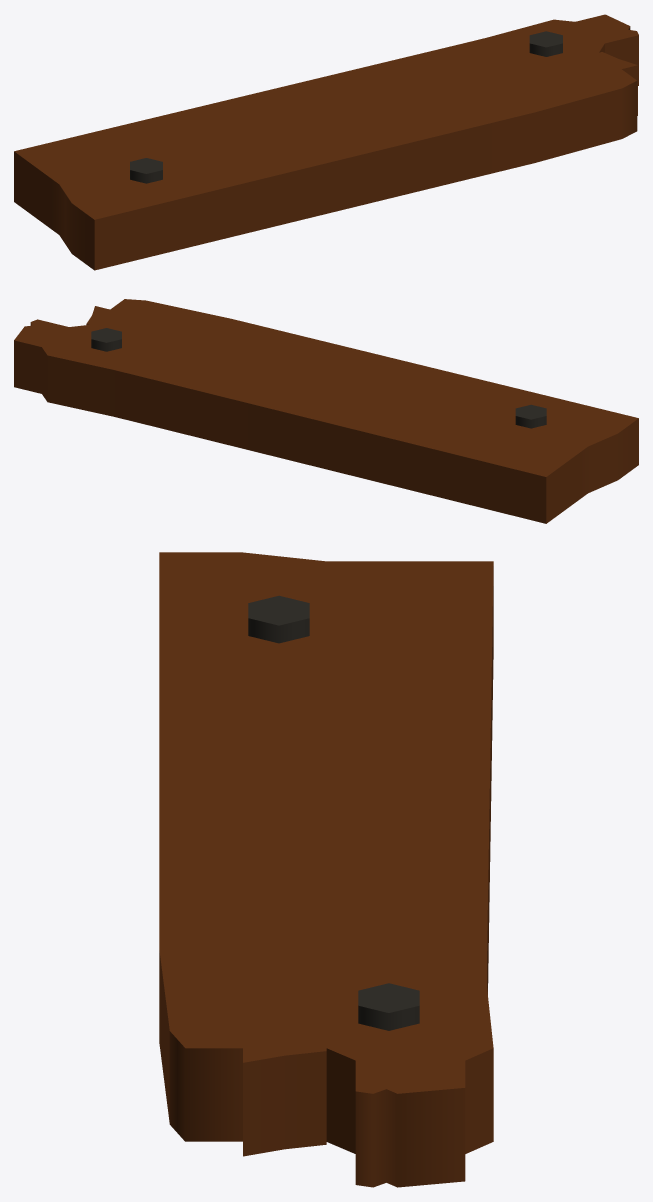
File: plank.FBX
3 views of the same model, one above another, from view 1: azimuth 30°, elevation 25°; view 2: azimuth 150°, elevation 25°; view 3: azimuth 270°, elevation 25° (orthographic). The views are drawn at different scales.
Parts seen in each view (by area): view 1: plank; view 2: plank; view 3: plank.
Boxes of the visible parts, x1,y1,x2,y2 form: plank: (14,14,638,270); plank: (14,299,638,523); plank: (159,552,493,1187).
Size of the model in its own units: 71.61 by 6.87 by 18.68.
